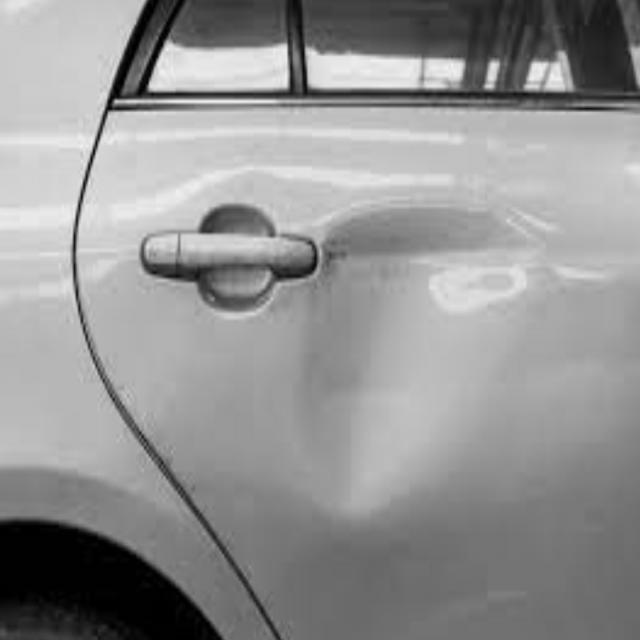dents: (311, 186, 519, 519)
